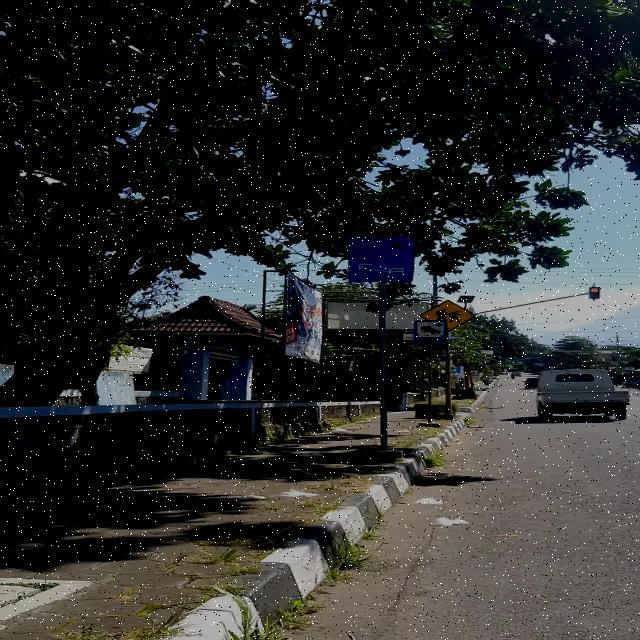Rumah Sakit: (348, 236, 416, 282)
